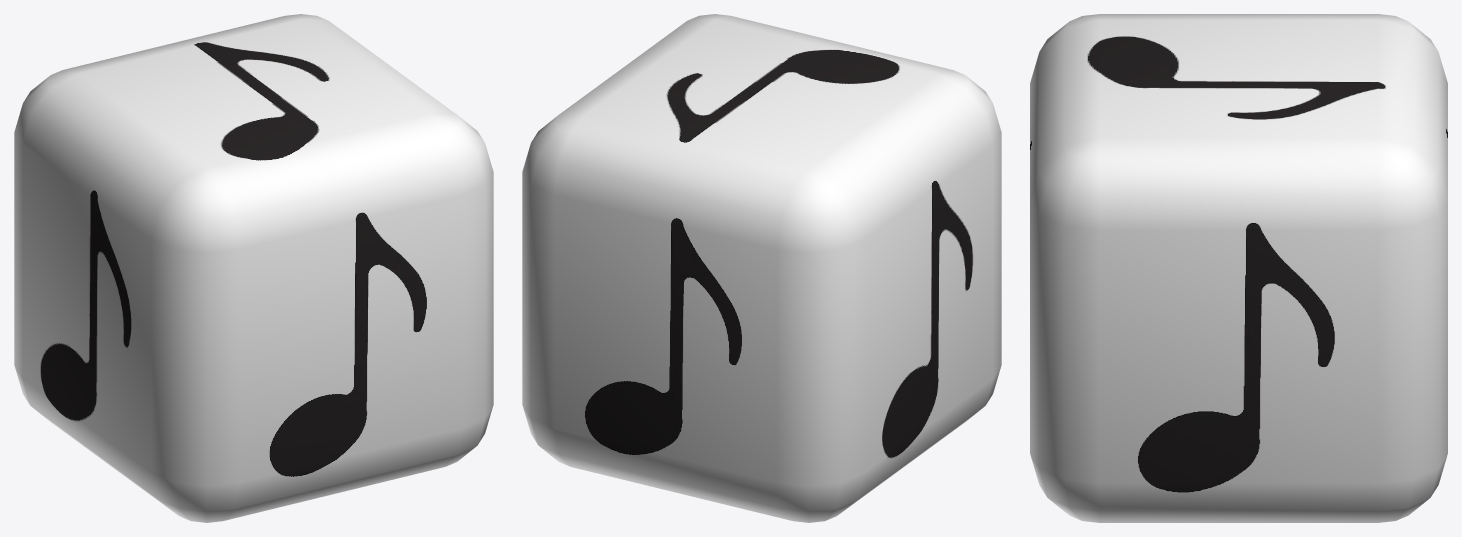
Rendered from Gem.FBX.
The picture shows the model from 3 angles, left to right: view 1: azimuth 30°, elevation 25°; view 2: azimuth 150°, elevation 25°; view 3: azimuth 270°, elevation 25°; orthographic projection. The views are drawn at different scales.
Visible parts, largest first — view 1: Gem; view 2: Gem; view 3: Gem.
Part boxes in pixels (x1=…): Gem: x1=14, y1=14, x2=493, y2=522; Gem: x1=522, y1=14, x2=1001, y2=522; Gem: x1=1030, y1=14, x2=1447, y2=522.
Bounding box in the file's own units: 30 × 30 × 30.
